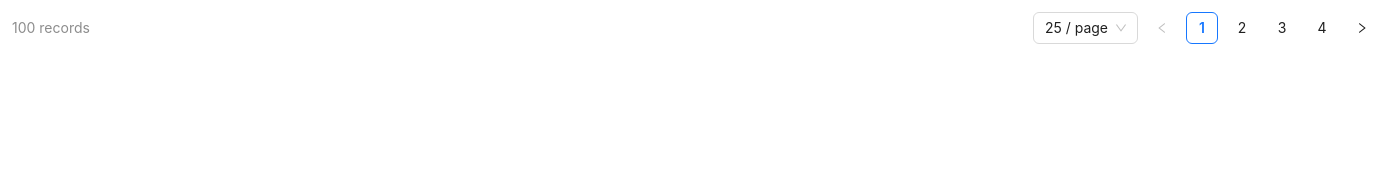
EntityOffsetFooter › adds a custom page size option when user types a number
Press the mouse on the dropdown at x=1076, y=28, box [1045, 13, 1108, 43]
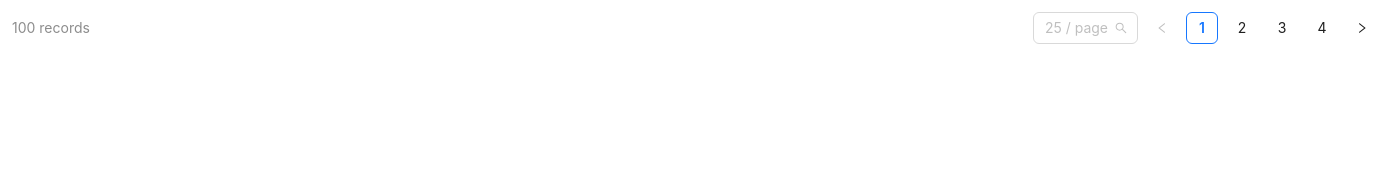
Type "75" into the dropdown at x=1076, y=28, box [1045, 13, 1108, 43]
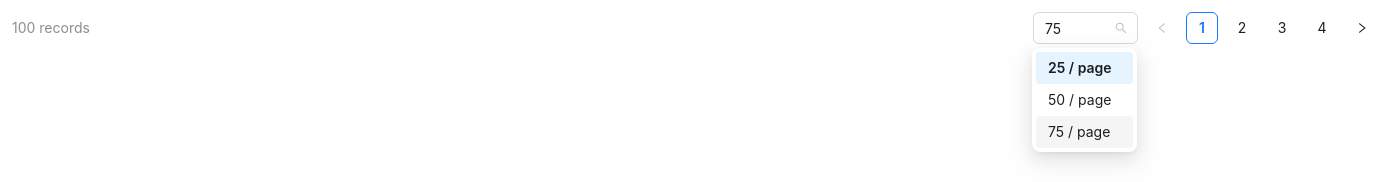
Expected: the text "75 / page" is shown, [1048, 121, 1121, 143]
